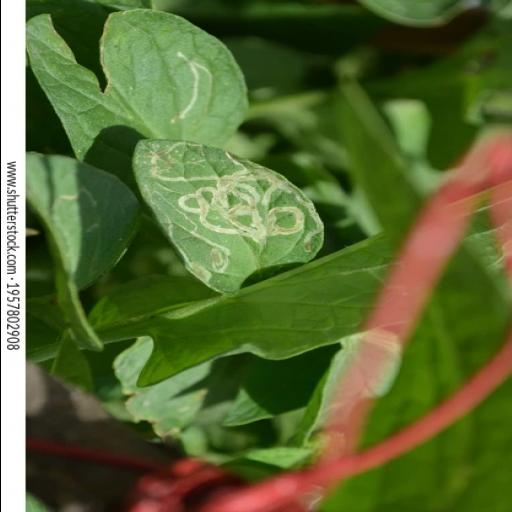Leaf Miner: (128, 132, 322, 298), (97, 12, 249, 146)
